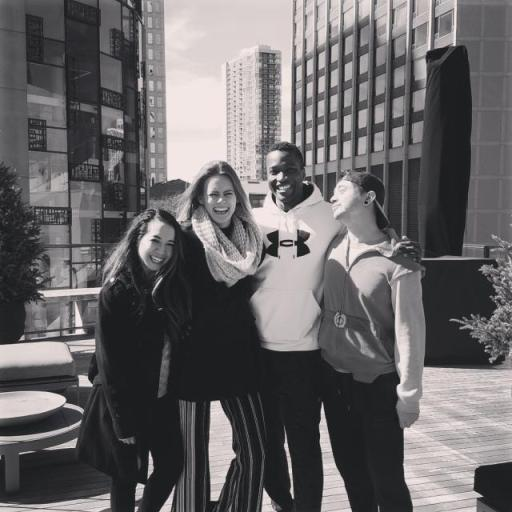Under Armour: (260, 219, 313, 261)
